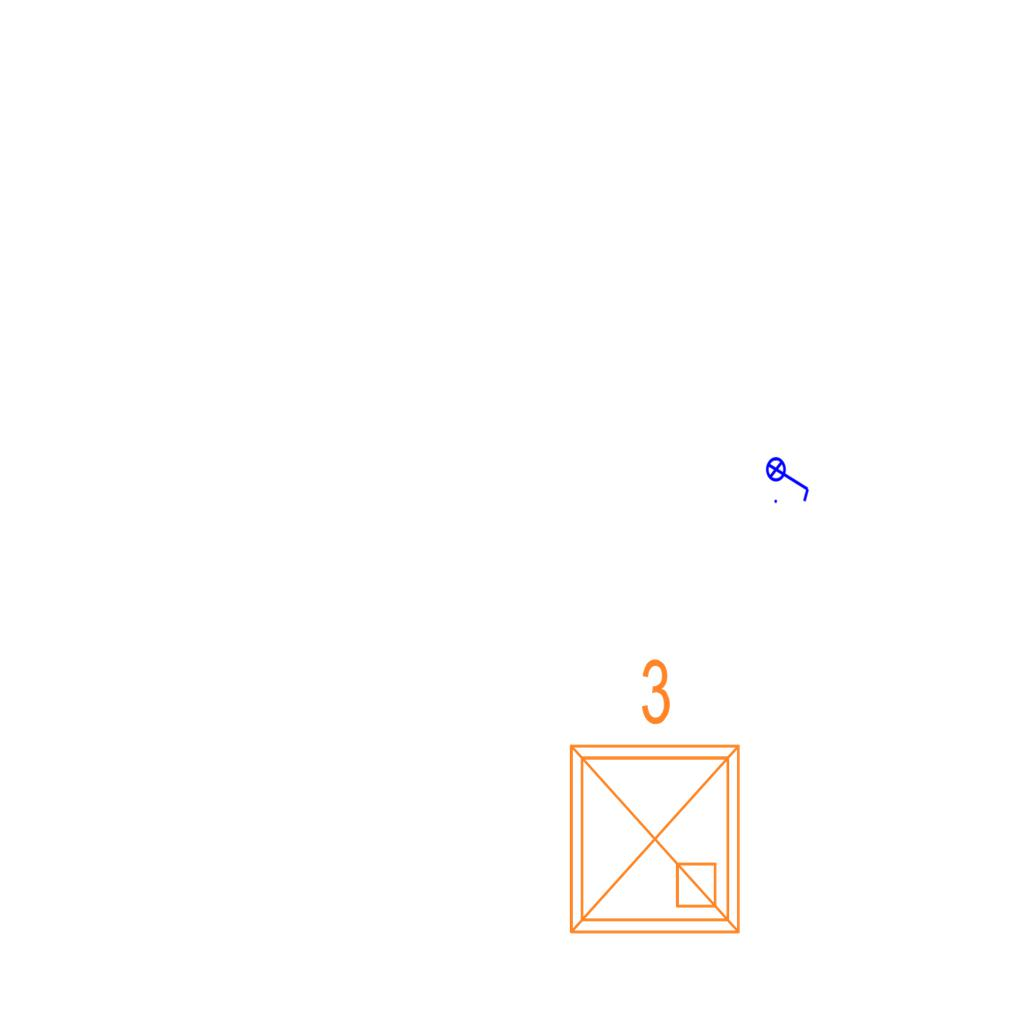Ausschalter_beleuchtet: (765, 450, 813, 506)
Einbaudownlights_LED_Konferenzraeume: (547, 648, 755, 948)
